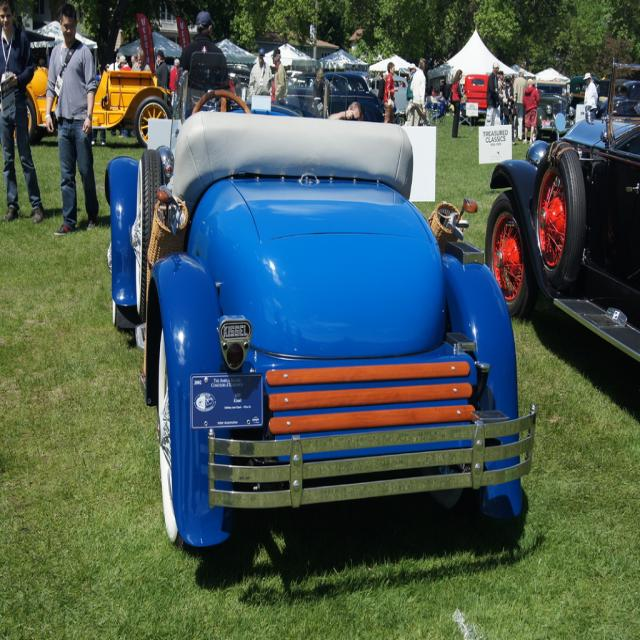car: (100, 45, 538, 557)
